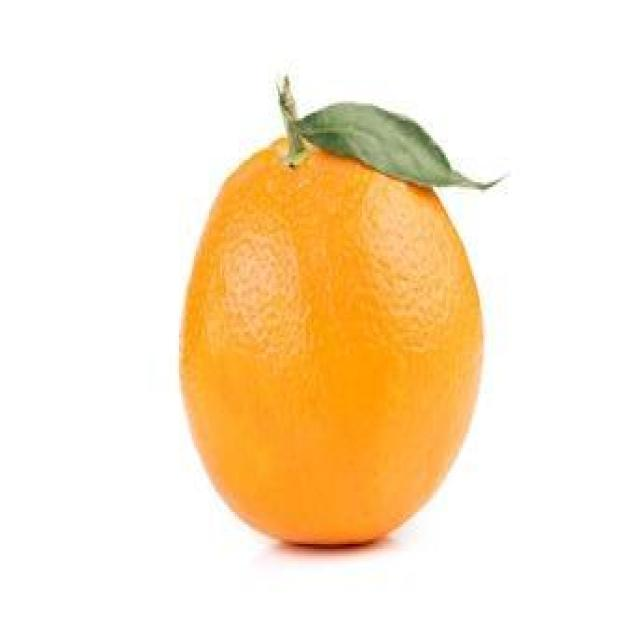orange: (179, 133, 484, 549)
